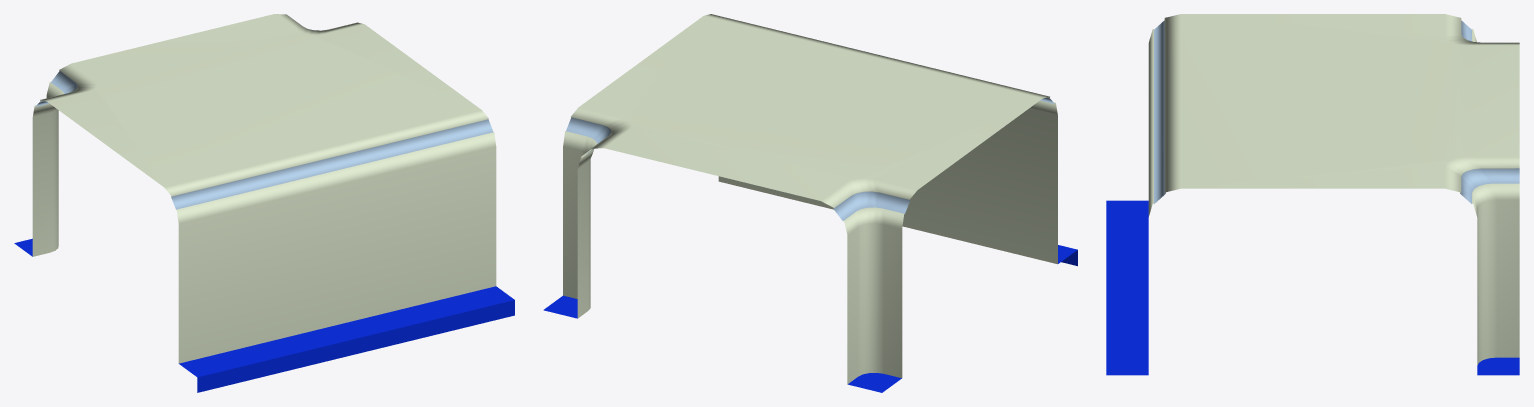
File: Wall_Island_T.fbx
The picture shows the model from 3 angles, left to right: view 1: azimuth 30°, elevation 25°; view 2: azimuth 150°, elevation 25°; view 3: azimuth 270°, elevation 25°; orthographic projection. The views are drawn at different scales.
Visible parts, largest first — view 1: Wall_Island_T; view 2: Wall_Island_T; view 3: Wall_Island_T.
Part boxes in pixels (x1,y1,x2,y2): Wall_Island_T: (14,14,514,392); Wall_Island_T: (543,14,1077,392); Wall_Island_T: (1106,14,1519,375).
Size of the model in its own units: 100 by 54.53 by 100.
